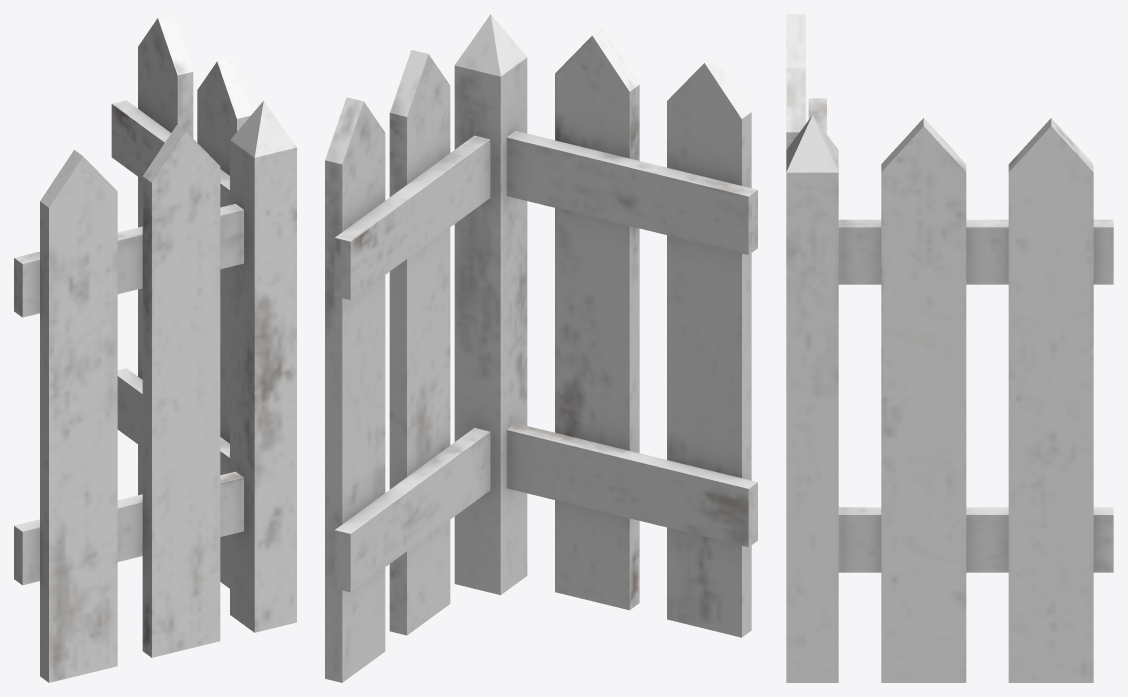
The model's file is sb_obj_ModernCity097_fence_w_corner.fbx.
3 views of the same model, side by side, from view 1: azimuth 30°, elevation 25°; view 2: azimuth 150°, elevation 25°; view 3: azimuth 270°, elevation 25° (orthographic). The views are drawn at different scales.
Parts seen in each view (by area): view 1: sb_obj_ModernCity097_fence_w_corner; view 2: sb_obj_ModernCity097_fence_w_corner; view 3: sb_obj_ModernCity097_fence_w_corner.
Part boxes in pixels (bbox=[...]): sb_obj_ModernCity097_fence_w_corner: bbox=[14, 14, 296, 682]; sb_obj_ModernCity097_fence_w_corner: bbox=[325, 14, 757, 682]; sb_obj_ModernCity097_fence_w_corner: bbox=[786, 14, 1113, 682].
Size of the model in its own units: 0.5158 by 0.9677 by 0.5157.
